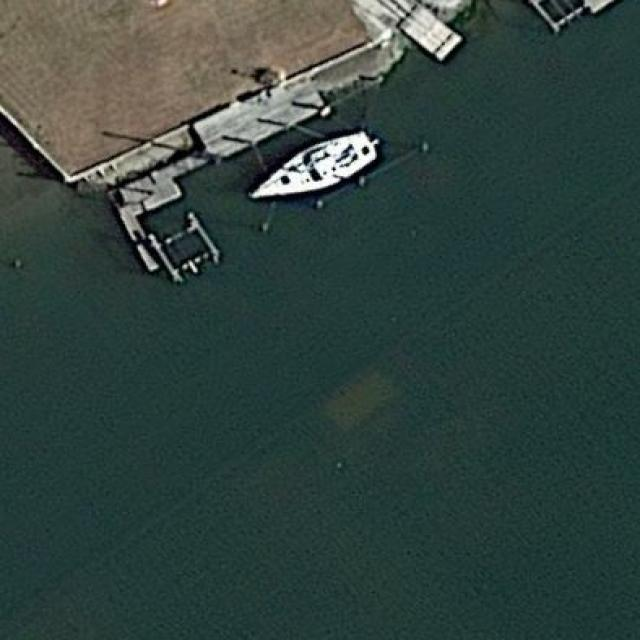ship: (244, 131, 382, 204)
